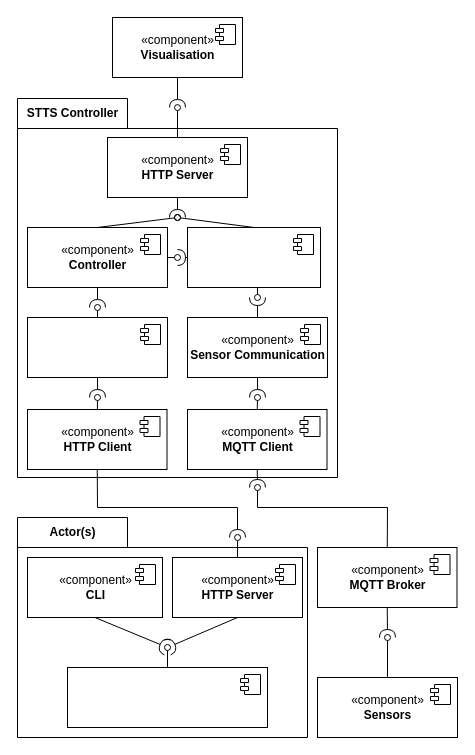
Image size: 475x755. Some labels were removed from this diagram. The box of each missing label's shape, as (x1, y1, x2, y2) in pixels:
«component» Actor Communication: (26, 316, 168, 378)
«component» Track Representation: (186, 226, 320, 288)
«component» Train/Switch/CrossingController: (66, 666, 268, 728)
